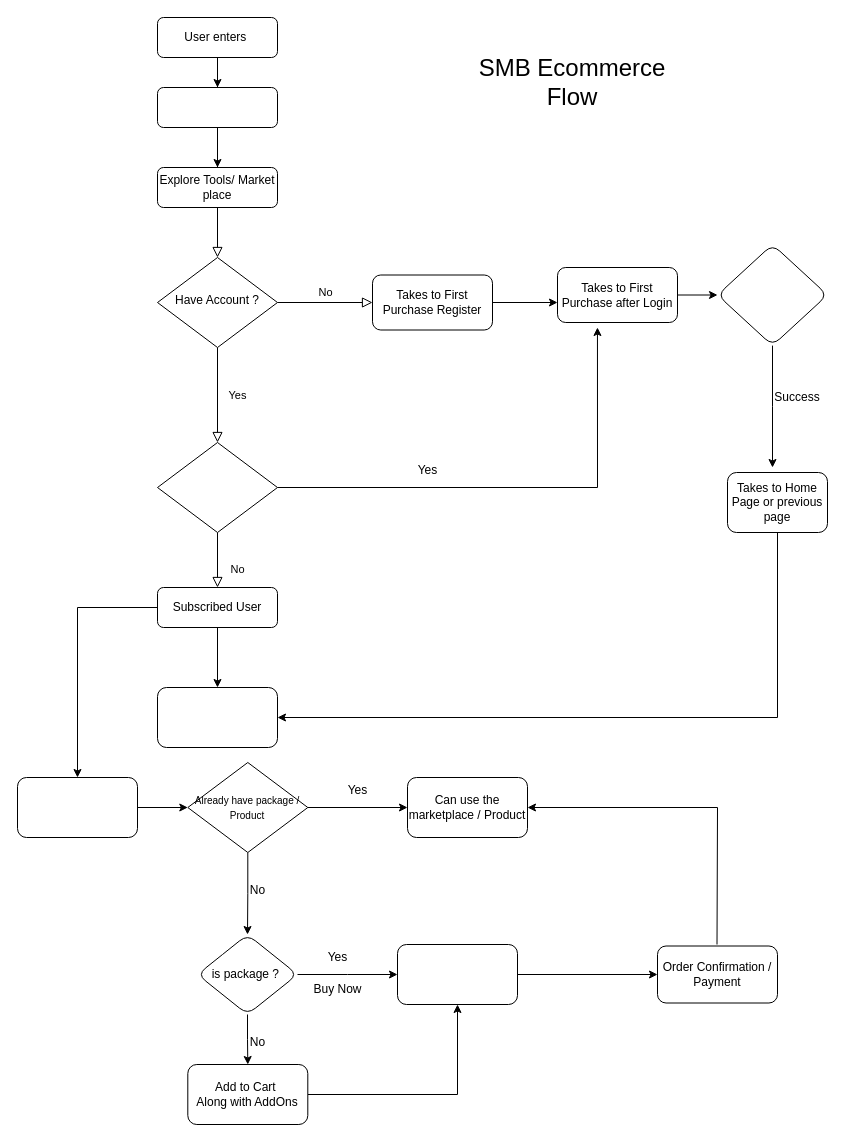
Image size: 845x1142. Some labels were removed from this diagram. Each missing label, with the centre of its shape:
"Can use tools / Purchase Tools" belongs at (217,717).
"CheckOut Page" belongs at (457,974).
"Explores MarketPlace" belongs at (77,807).
"Explores the website" belongs at (217,107).
"is free Account ?" belongs at (217,487).
"Plan Subsctiprtion" belongs at (772,294).
